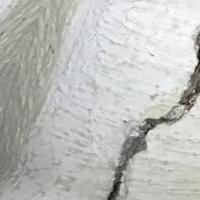crack: (109, 26, 199, 199)
